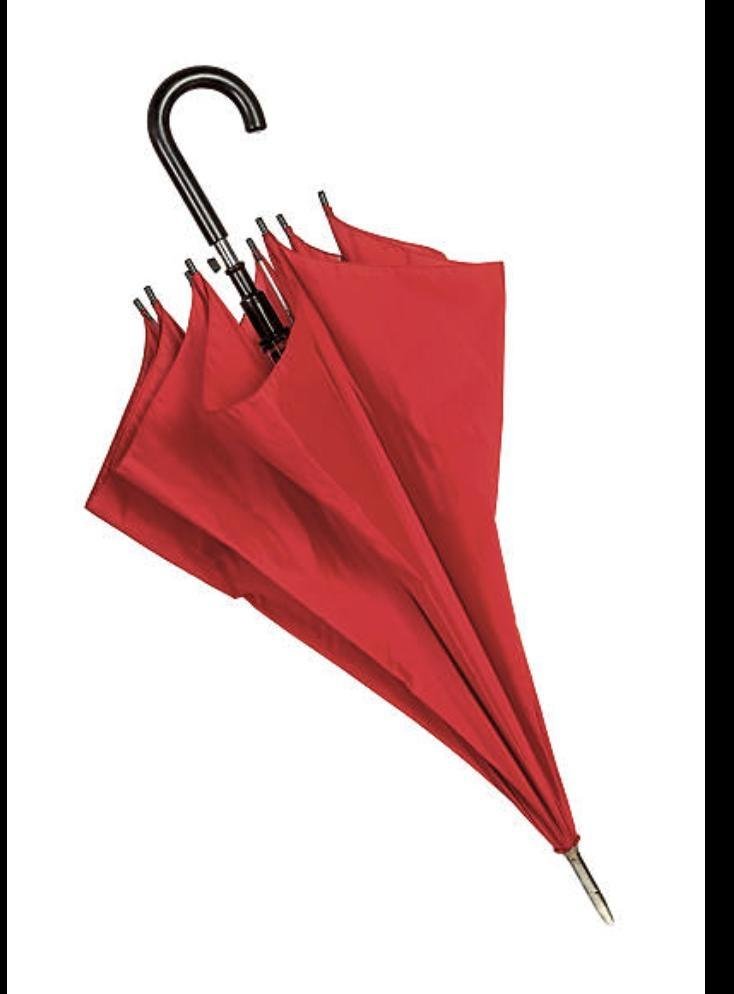Umbrella: (88, 66, 608, 920)
